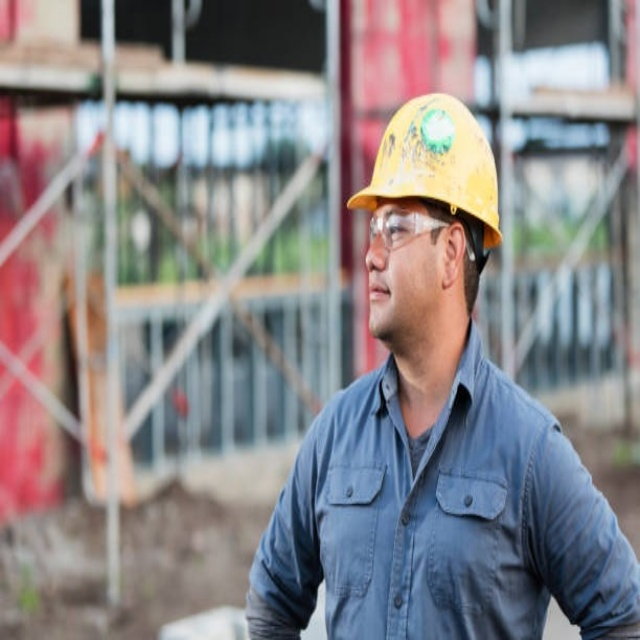Gafas: (369, 206, 454, 250)
Sin_mascara: (365, 277, 401, 334)
